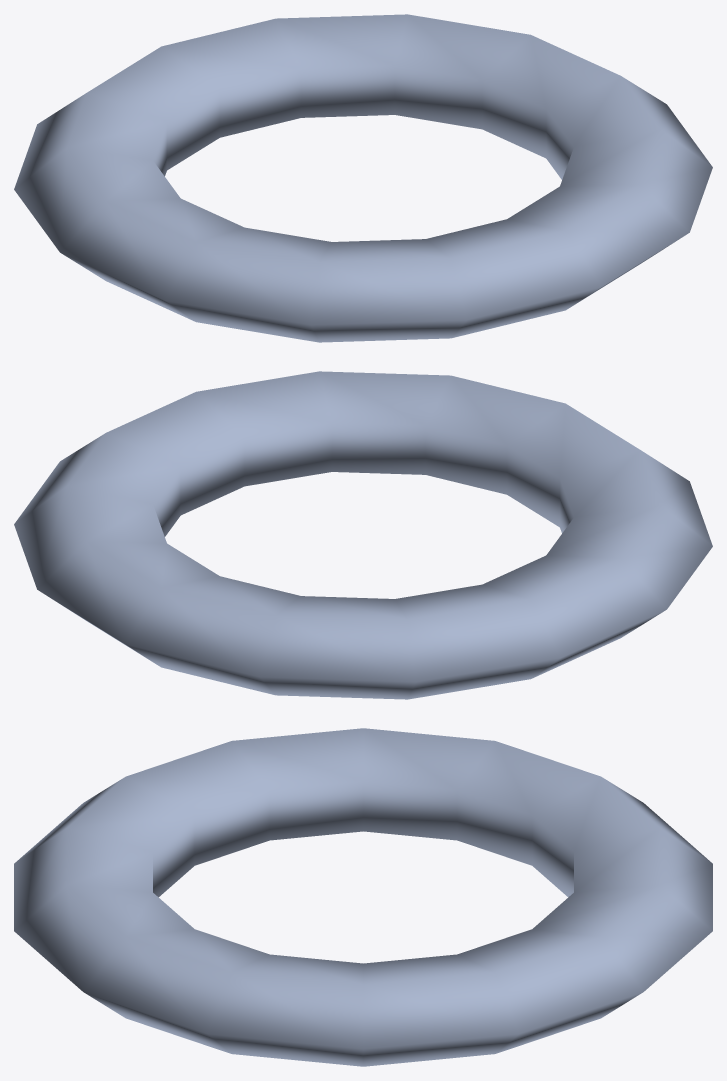
File: enemy_phantom_ring.obj
3 views of the same model, one above another, from view 1: azimuth 30°, elevation 25°; view 2: azimuth 150°, elevation 25°; view 3: azimuth 270°, elevation 25° (orthographic). The views are drawn at different scales.
Parts seen in each view (by area): view 1: blade; view 2: blade; view 3: blade.
Boxes of the visible parts, x1,y1,x2,y2 form: blade: (14,14,712,342); blade: (14,371,712,699); blade: (14,728,712,1066).
Bounding box in the file's own units: 0.5 × 0.0628 × 0.4874.
